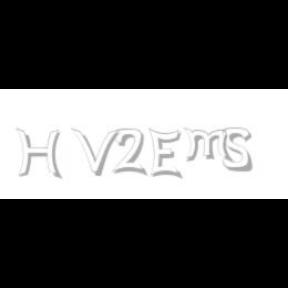2: (111, 128, 145, 176)
E: (148, 128, 181, 180)
H: (16, 128, 62, 180)
S: (222, 128, 253, 172)
V: (71, 128, 119, 176)
m: (182, 128, 234, 162)
